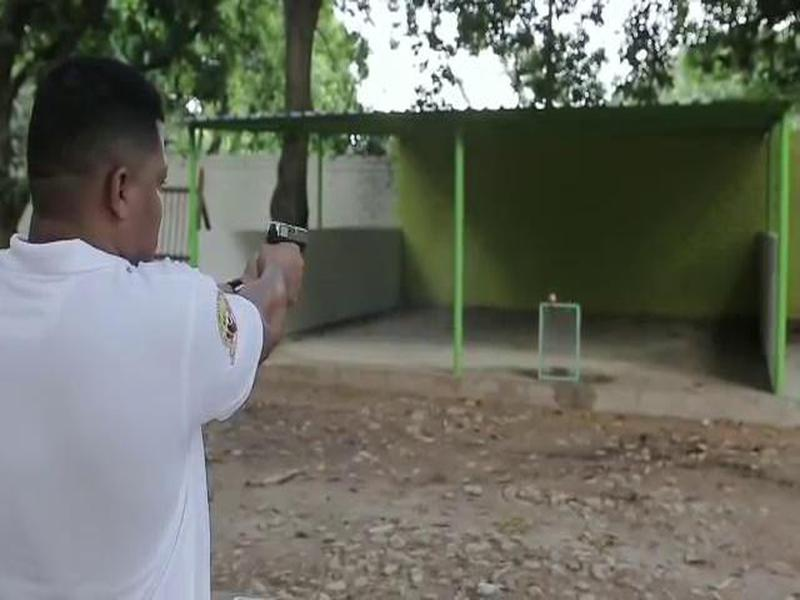Pistola: (256, 214, 321, 280)
